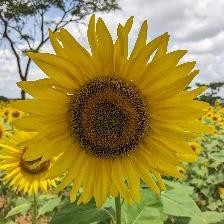sunflower: (10, 14, 219, 208)
